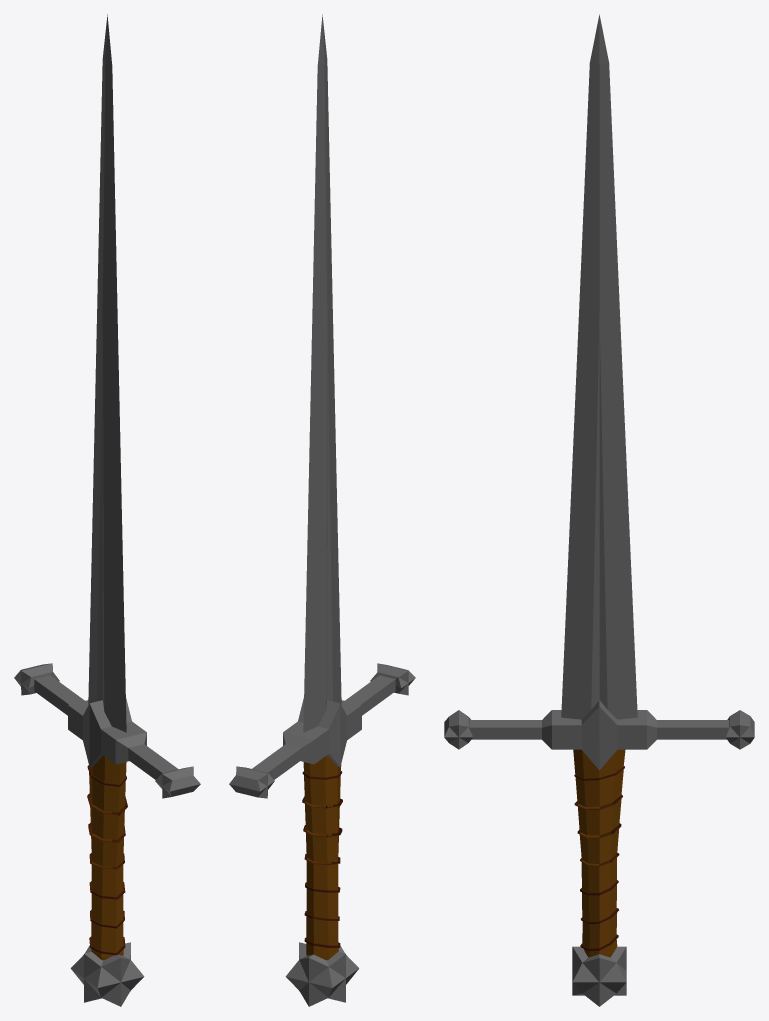
The model's file is S_Weapon_Sword.fbx.
3 views of the same model, side by side, from view 1: azimuth 30°, elevation 25°; view 2: azimuth 150°, elevation 25°; view 3: azimuth 270°, elevation 25° (orthographic).
Visible parts, largest first — view 1: Cube.003; view 2: Cube.003; view 3: Cube.003.
Boxes of the visible parts, box(x1,y1,x2,y2) form: Cube.003: box(14, 14, 200, 1006); Cube.003: box(229, 14, 415, 1006); Cube.003: box(444, 14, 754, 1006).
Size of the model in its own units: 34.43 by 6 by 120.
